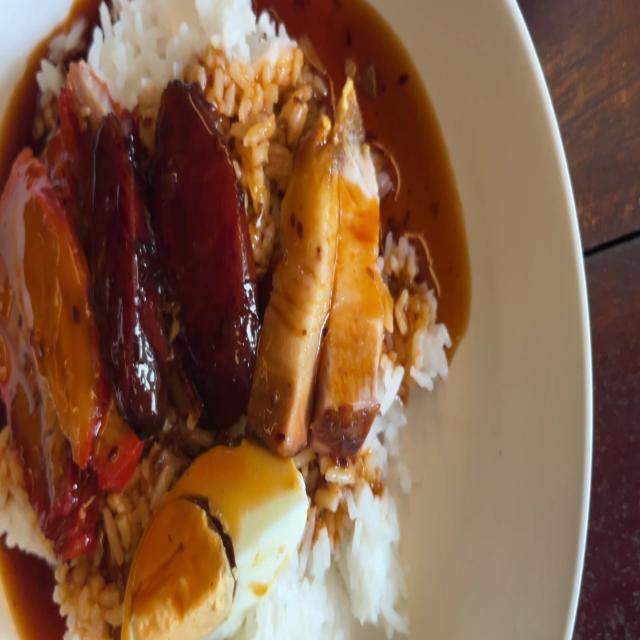red_pork_and_crispy_pork: (130, 435, 296, 640)
stir_fried_basil: (90, 81, 254, 413), (166, 74, 249, 417), (94, 116, 166, 402)
